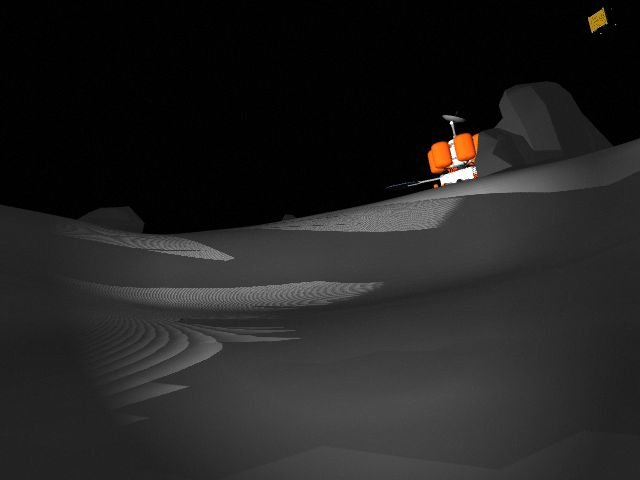cubesat: (581, 1, 627, 42)
